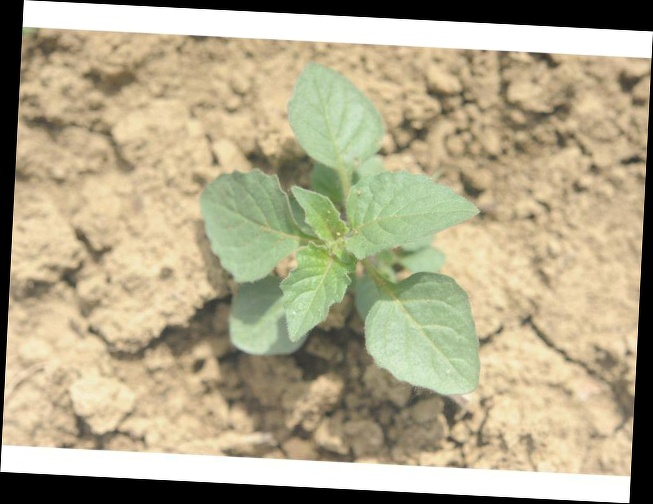nightshade: (202, 62, 487, 391)
